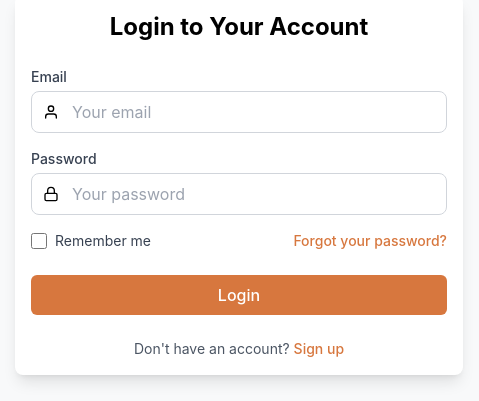
Login Component › LoginForm Component › shows loading state during form submission
Note: Fill in the form
Step 1. Type "test@example.com" into the field labelled "Email" → (239, 112), box 31,91 -> 447,133
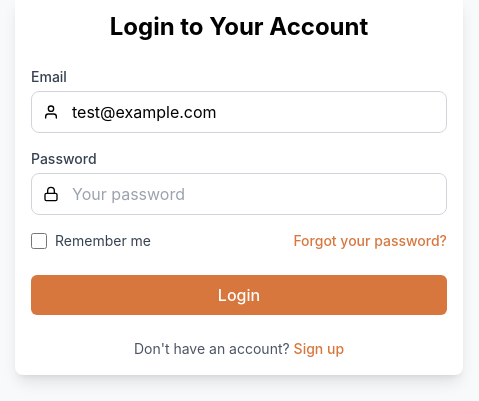
Step 2. Type "password123" into the password field labelled "Password" → (239, 194), box 31,173 -> 447,215
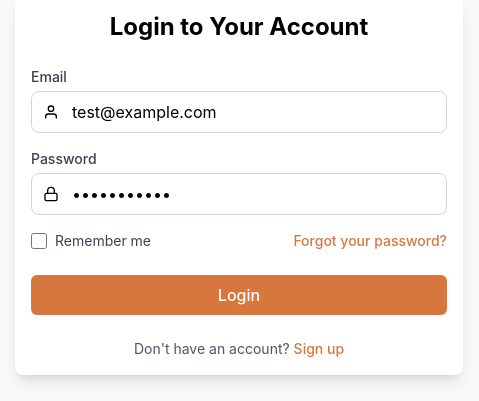
Note: Submit the form
Step 3. Click the button "Login" → (239, 295), box 31,275 -> 447,315
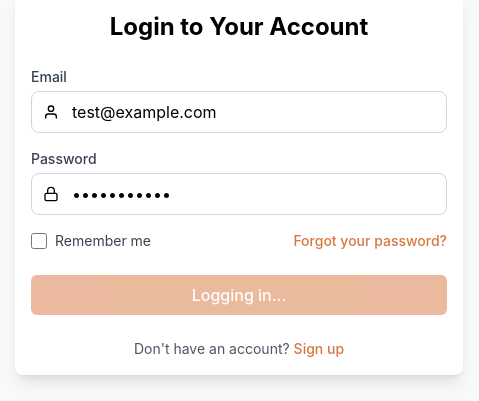
expect the button "Logging in..." is disabled: met, box 31,275 -> 447,315
